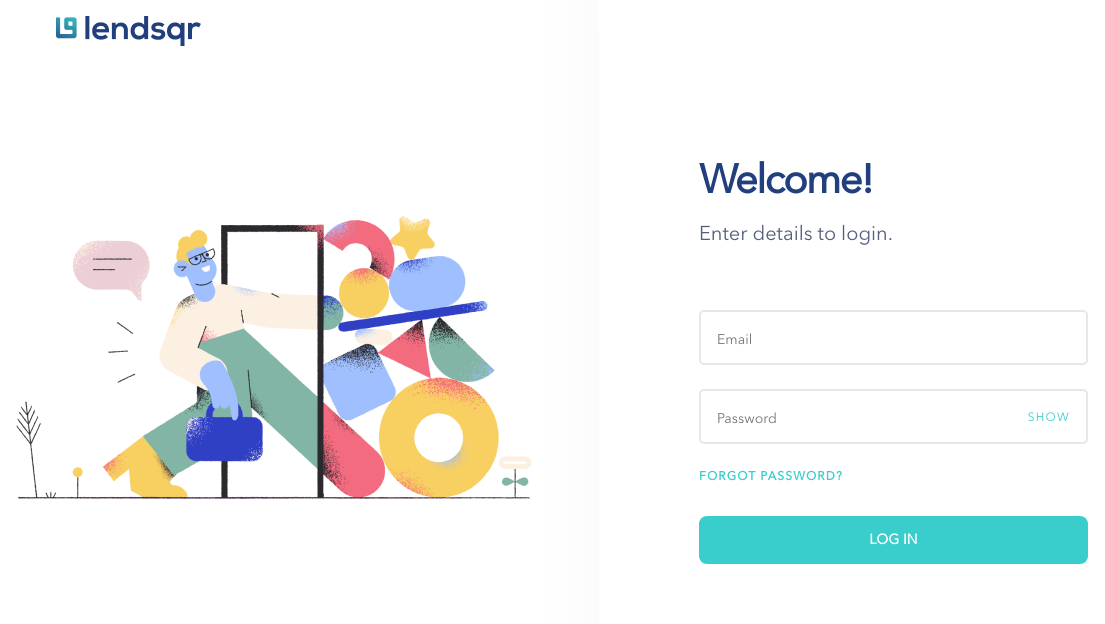
Scenario: Login › shows error message for incorrect login
Type "wrong@test.com" into the field with placeholder "Email" at (893, 338), box x1=699 y1=310 x2=1088 y2=365
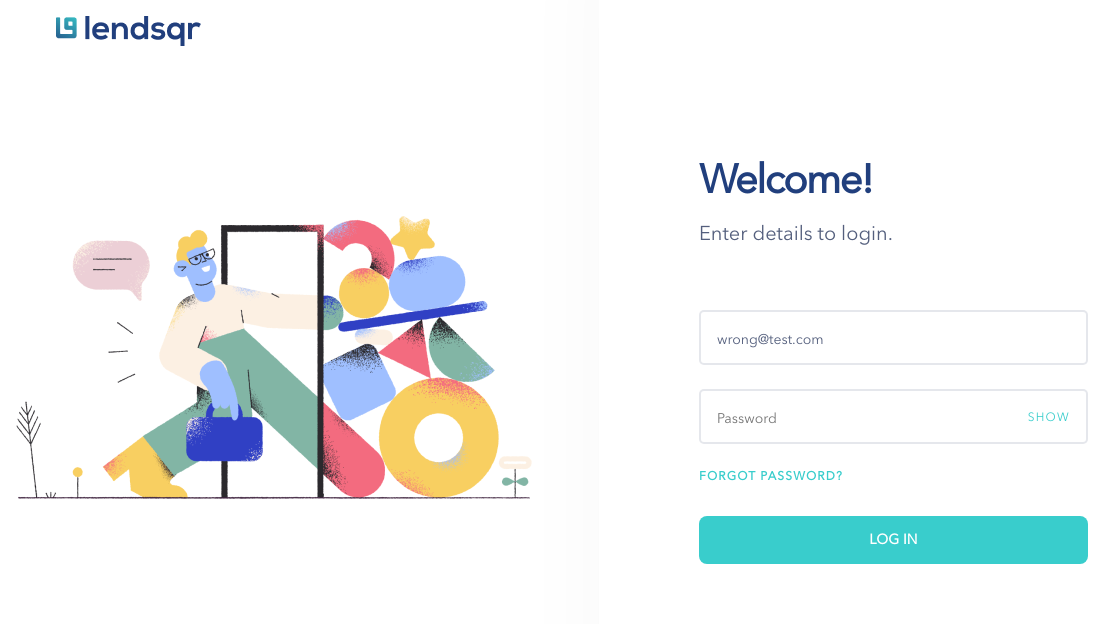
Type "wrongPassword" into the password field with placeholder "Password" at (893, 417), box x1=699 y1=389 x2=1088 y2=444
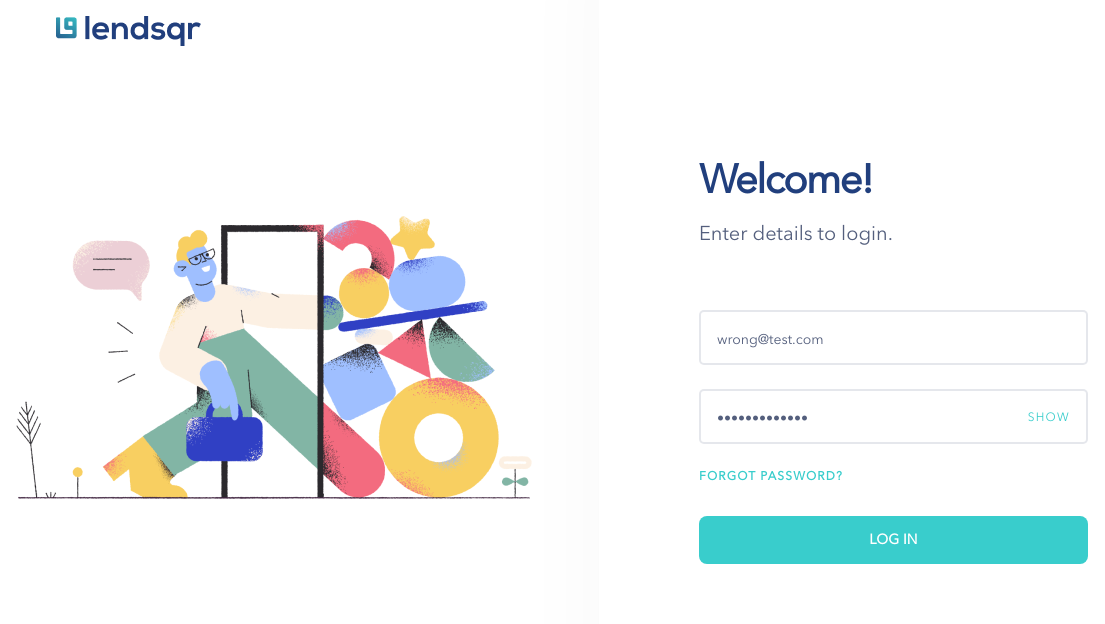
Click the button "LOG IN" at (893, 540), box x1=699 y1=516 x2=1088 y2=564
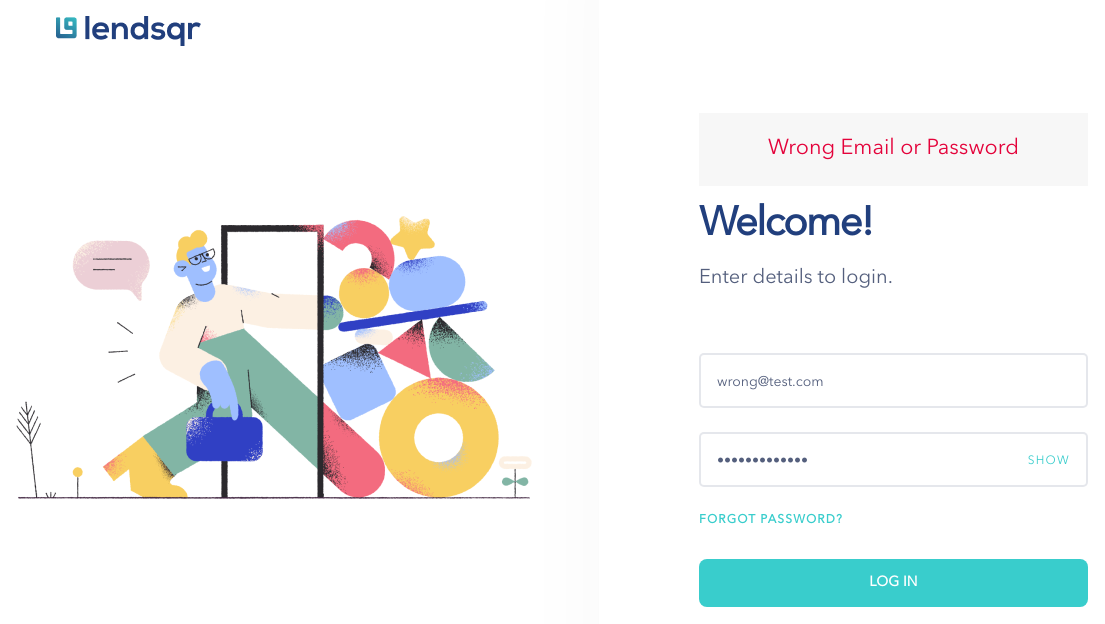
Result: the text "Wrong Email or Password" is shown at x1=768 y1=138 x2=1019 y2=160
